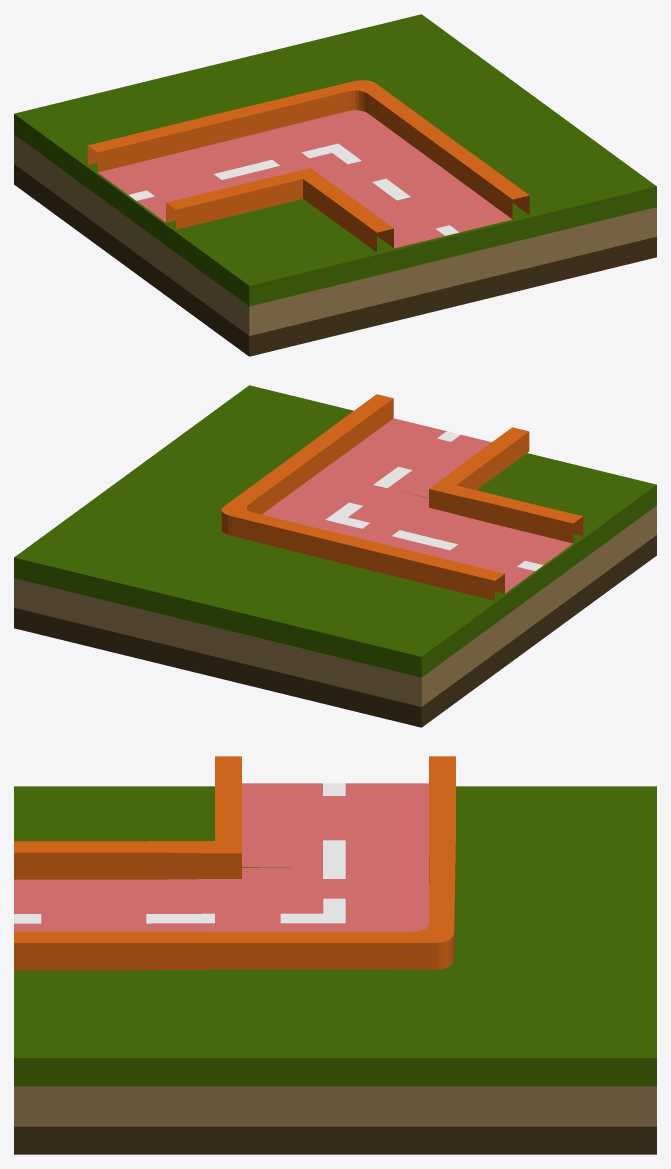
The model's file is rotation bike road.fbx.
The picture shows the model from 3 angles, top to bottom: view 1: azimuth 30°, elevation 25°; view 2: azimuth 150°, elevation 25°; view 3: azimuth 270°, elevation 25°; orthographic projection. The views are drawn at different scales.
Visible parts, largest first — view 1: Plane.016; view 2: Plane.016; view 3: Plane.016.
Part boxes in pixels (left/top/right/bottom): Plane.016: left=14, top=14, right=656, bottom=356; Plane.016: left=14, top=385, right=656, bottom=727; Plane.016: left=14, top=756, right=656, bottom=1154.
Bounding box in the file's own units: 200 × 43.47 × 200.
